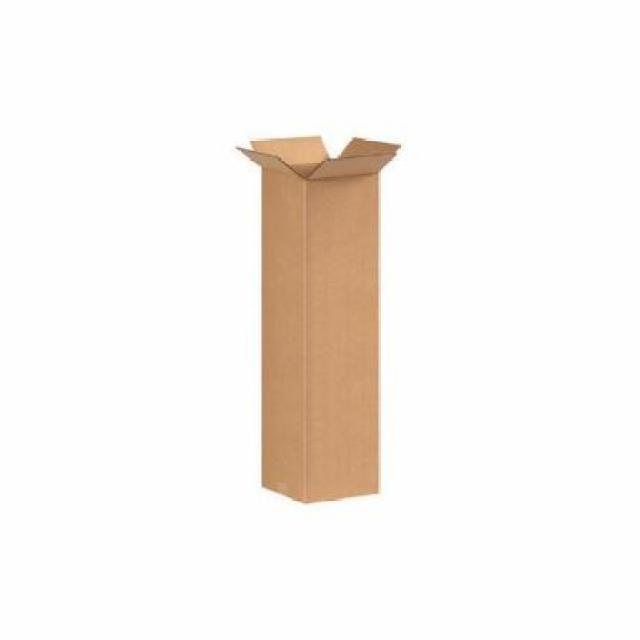box: (241, 132, 385, 504)
